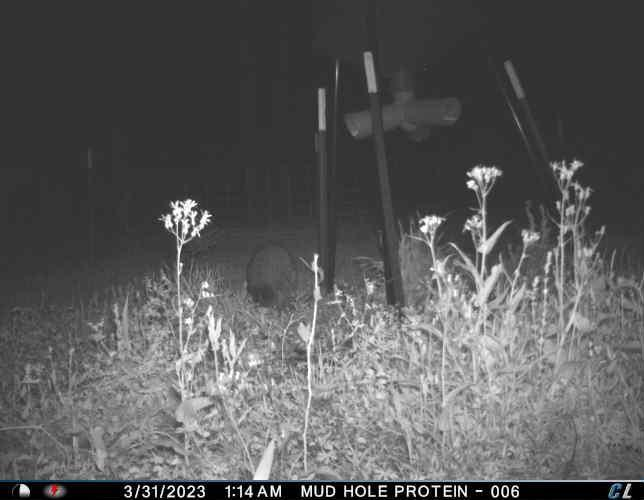Raccoon: (245, 239, 305, 314)
